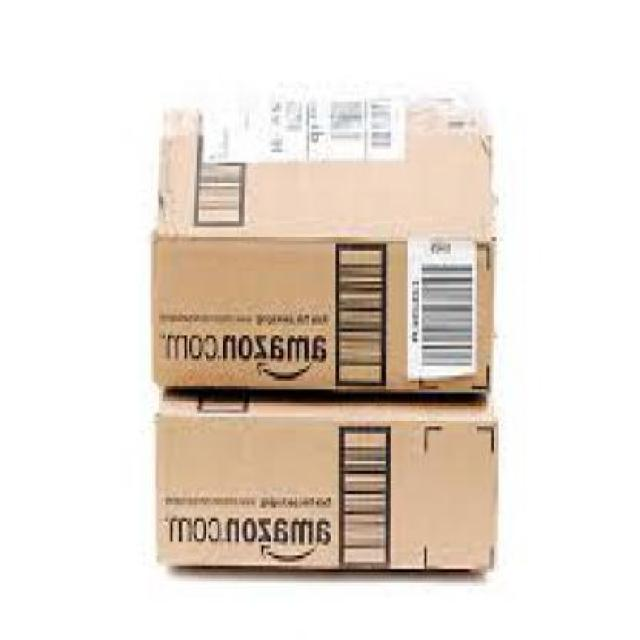cardboxes: (153, 99, 492, 396), (153, 395, 498, 576)
